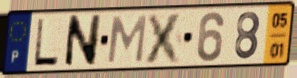6: (196, 10, 226, 64)
8: (233, 10, 261, 61)
L: (31, 17, 61, 68)
M: (105, 13, 149, 65)
N: (62, 13, 103, 70)
X: (142, 11, 186, 65)
